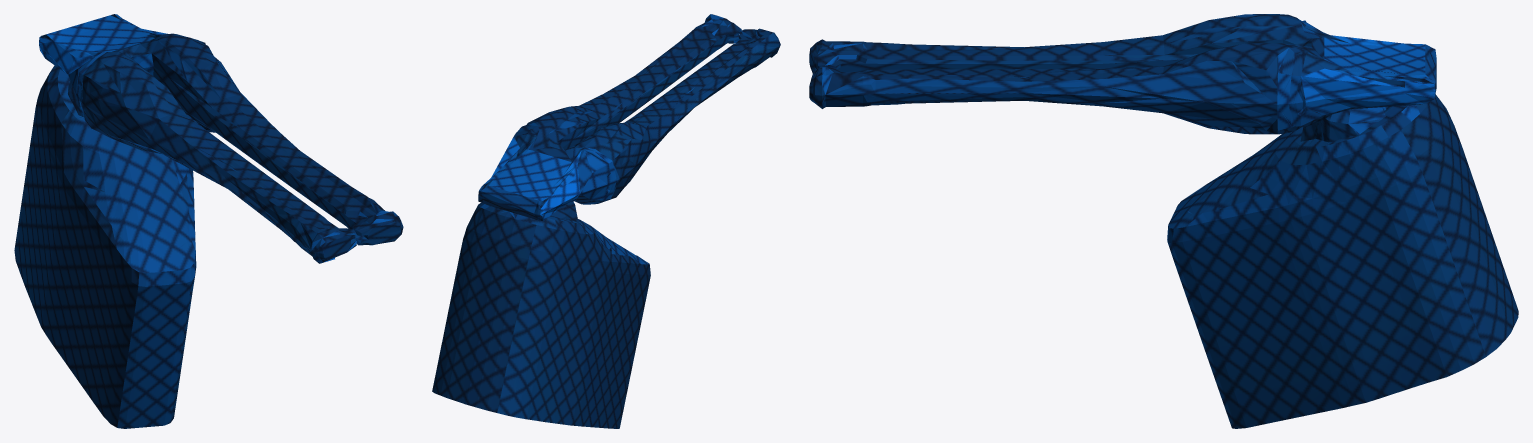
Rendered from RailjackTorretaFrontal2.gltf.
3 views of the same model, side by side, from view 1: azimuth 30°, elevation 25°; view 2: azimuth 150°, elevation 25°; view 3: azimuth 270°, elevation 25° (orthographic). The views are drawn at different scales.
Visible parts, largest first — view 1: Railjack_Parted__repaired.016; view 2: Railjack_Parted__repaired.016; view 3: Railjack_Parted__repaired.016.
Boxes of the visible parts, x1,y1,x2,y2 form: Railjack_Parted__repaired.016: (14,14,403,428); Railjack_Parted__repaired.016: (432,14,780,428); Railjack_Parted__repaired.016: (809,14,1518,428).
Bounding box in the file's own units: 1.34 × 3.28 × 5.3.
1 material, 1 textured.
